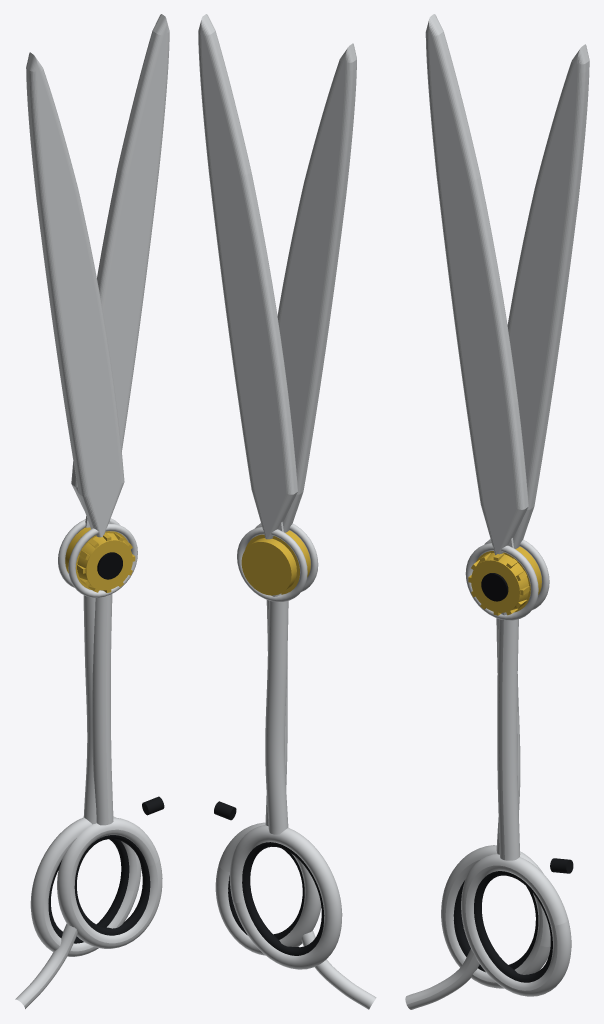
File: scissors.glb
3 views of the same model, side by side, from view 1: azimuth 30°, elevation 25°; view 2: azimuth 150°, elevation 25°; view 3: azimuth 330°, elevation 25° (orthographic). The views are drawn at different scales.
Visible parts, largest first — view 1: BladeMesh_Right, BladeMesh_Left, SteelRing_Finger, Shank_Finger, SteelRing_Thumb, Shank_Thumb, PivotGoldDialCrown, RubberInsert_Finger, PinkyTang_Rest, PivotWasher_Front, RubberInsert_Thumb, PivotWasher_Back (+2 smaller); view 2: BladeMesh_Left, BladeMesh_Right, SteelRing_Thumb, Shank_Thumb, SteelRing_Finger, PivotBackNut, RubberInsert_Thumb, PivotWasher_Back, PinkyTang_Rest, PivotGoldCollar, RubberInsert_Finger, PivotWasher_Front (+1 smaller); view 3: BladeMesh_Right, BladeMesh_Left, SteelRing_Finger, Shank_Finger, SteelRing_Thumb, PivotGoldDialCrown, RubberInsert_Finger, PivotWasher_Front, PinkyTang_Rest, RubberInsert_Thumb, PivotWasher_Back, CenterPivotJewel (+2 smaller).
Part boxes in pixels (x1,y1,x2,y2): BladeMesh_Right: (26,52,124,537); BladeMesh_Left: (71,14,169,510); SteelRing_Finger: (57,817,162,948); Shank_Finger: (92,590,113,825); SteelRing_Thumb: (30,816,141,956); Shank_Thumb: (83,595,96,824); PivotGoldDialCrown: (77,533,132,590); RubberInsert_Finger: (74,835,150,935); PinkyTang_Rest: (15,923,77,1008); PivotWasher_Front: (68,523,137,597); RubberInsert_Thumb: (48,839,129,943); PivotWasher_Back: (58,518,120,587); BladeMesh_Left: (198,14,297,539); BladeMesh_Right: (277,43,356,532); SteelRing_Thumb: (229,824,342,969); Shank_Thumb: (265,593,288,834); SteelRing_Finger: (215,822,321,955); PivotBackNut: (241,538,296,595); RubberInsert_Thumb: (242,842,324,955); PivotWasher_Back: (237,527,307,602); PinkyTang_Rest: (301,930,376,1009); PivotGoldCollar: (245,530,310,594); RubberInsert_Finger: (228,848,304,939); PivotWasher_Front: (255,523,318,591); BladeMesh_Right: (425,14,528,554); BladeMesh_Left: (507,44,589,548); SteelRing_Finger: (461,854,571,996); Shank_Finger: (497,612,520,860); SteelRing_Thumb: (441,845,550,988); PivotGoldDialCrown: (471,553,528,612); RubberInsert_Finger: (474,871,552,982); PivotWasher_Front: (465,543,538,620); PinkyTang_Rest: (405,949,479,1009); RubberInsert_Thumb: (453,880,538,972); PivotWasher_Back: (484,539,549,609); CenterPivotJewel: (481,573,508,601).
Size of the model in its own units: 1.25 by 6.99 by 0.3175.
